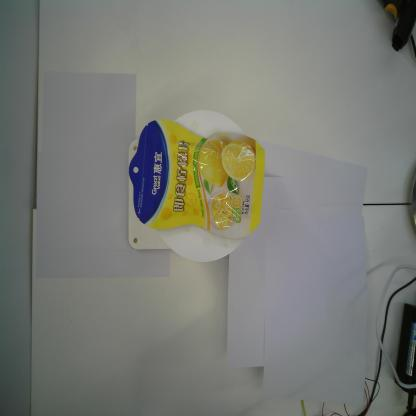Dried Fruit: (129, 118, 265, 239)
